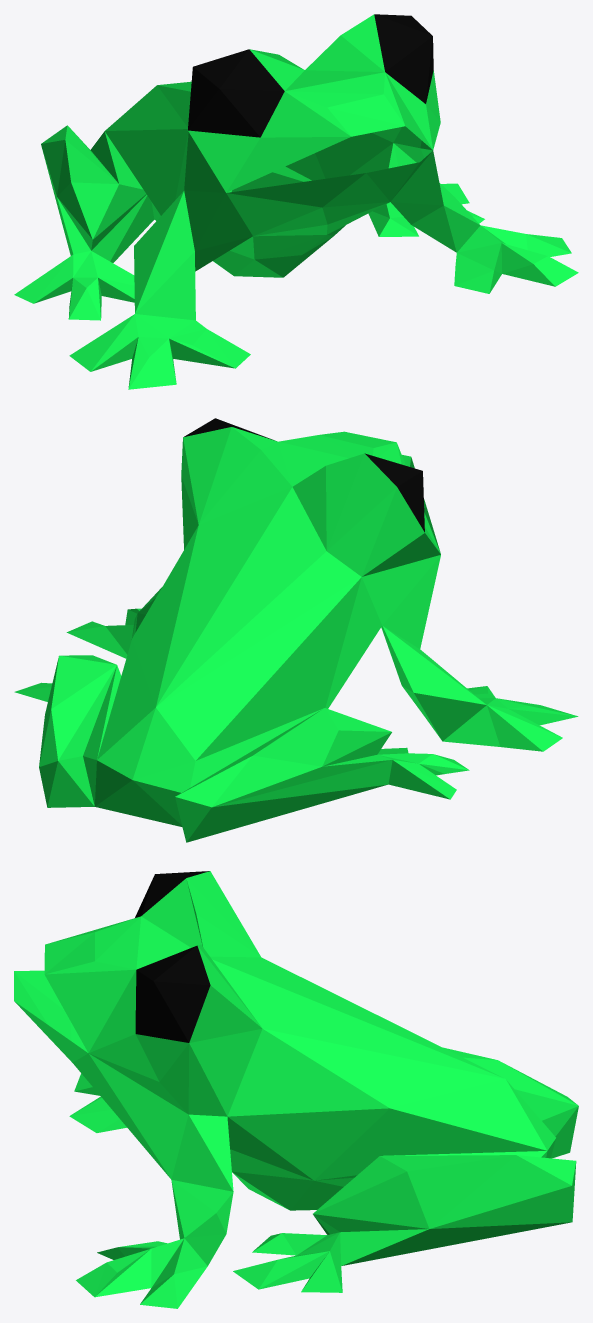
Rendered from frog.glb.
The picture shows the model from 3 angles, top to bottom: view 1: azimuth 30°, elevation 25°; view 2: azimuth 150°, elevation 25°; view 3: azimuth 270°, elevation 25°; orthographic projection. The views are drawn at different scales.
Parts seen in each view (by area): view 1: lowpolyfrog; view 2: lowpolyfrog; view 3: lowpolyfrog.
Boxes of the visible parts, x1,y1,x2,y2 form: lowpolyfrog: (14, 14, 578, 389); lowpolyfrog: (14, 418, 578, 842); lowpolyfrog: (14, 871, 578, 1308).
Bounding box in the file's own units: 50.07 × 26.03 × 47.79.
